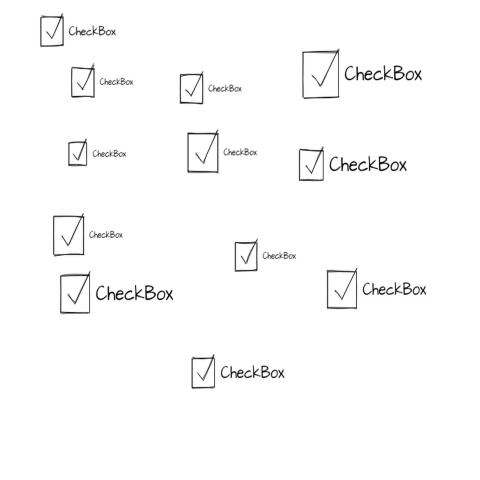Check Box: (300, 46, 422, 100), (58, 270, 173, 314), (324, 266, 427, 310), (297, 144, 408, 183), (189, 352, 285, 390), (184, 129, 257, 175), (51, 212, 123, 258), (39, 10, 117, 49), (176, 69, 243, 108), (69, 64, 133, 100), (232, 238, 296, 273), (67, 136, 126, 168)
